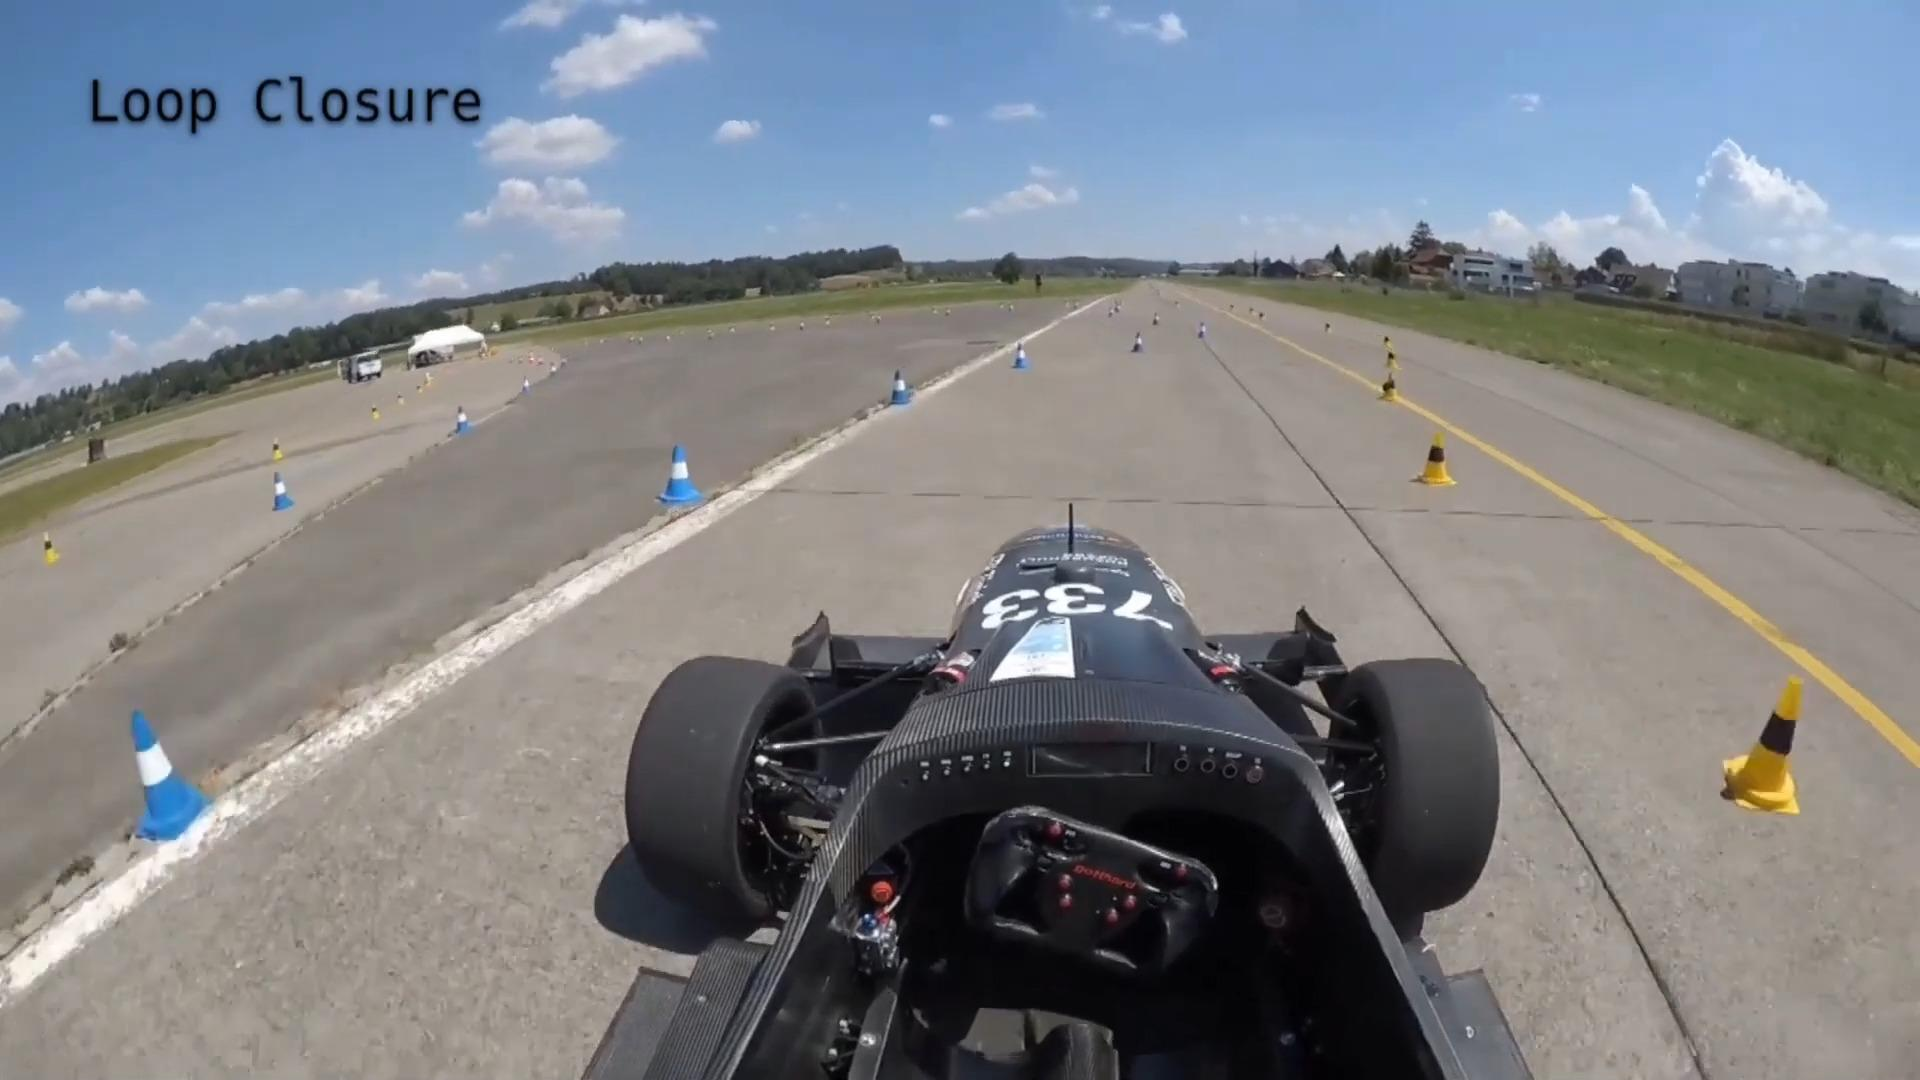blue_cone: (82, 702, 223, 848), (645, 436, 709, 506), (881, 356, 916, 415)
yellow_cone: (1695, 662, 1808, 816), (1402, 430, 1457, 488), (1373, 348, 1406, 402)
